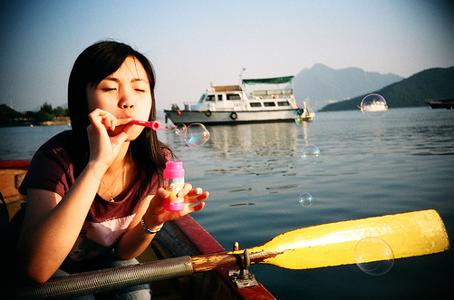person: (6, 39, 207, 298)
